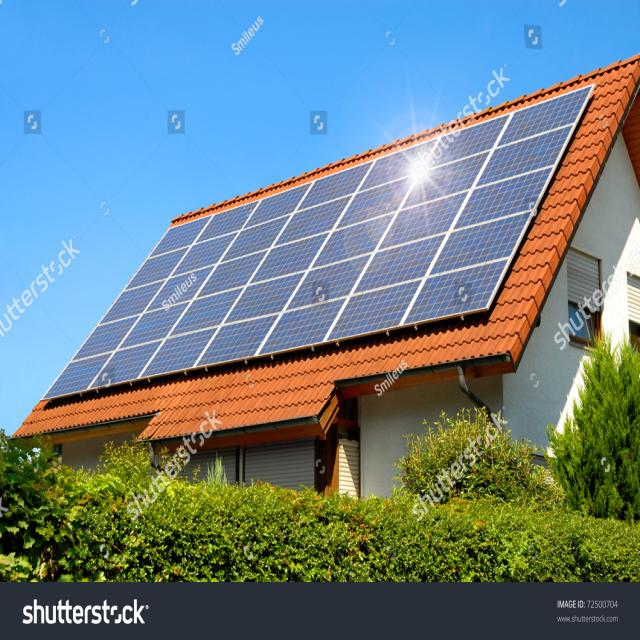clean-solar-panel: (45, 85, 594, 399)
